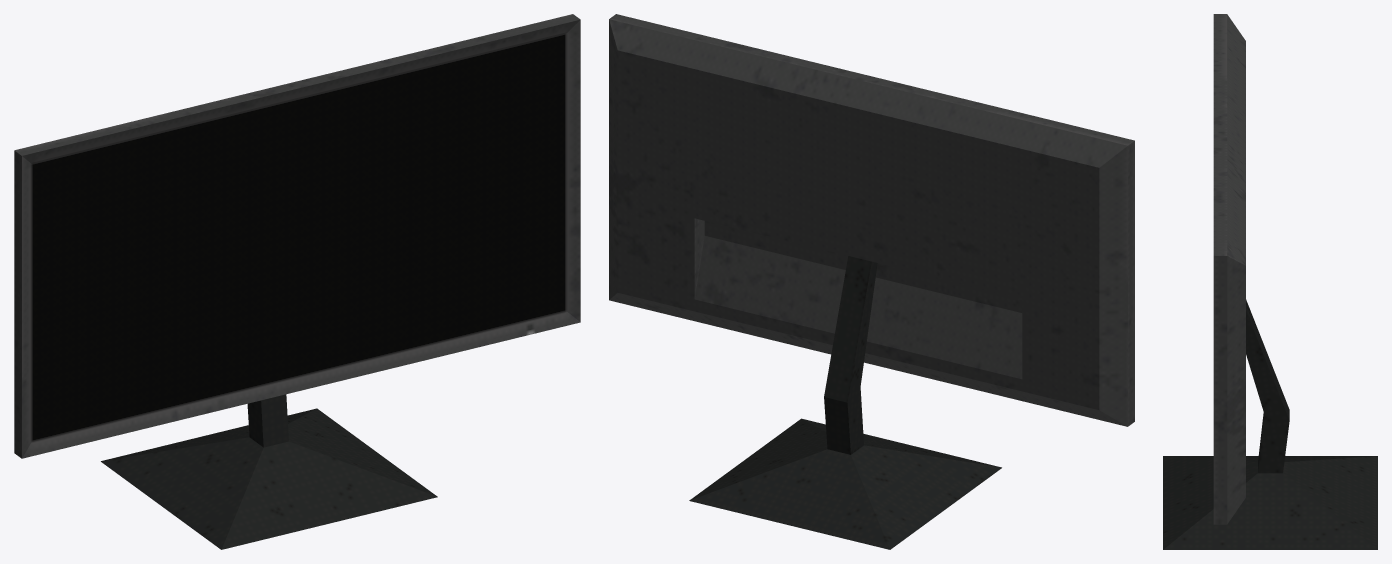
The model's file is PSX_Monitor.glb.
The picture shows the model from 3 angles, left to right: view 1: azimuth 30°, elevation 25°; view 2: azimuth 150°, elevation 25°; view 3: azimuth 270°, elevation 25°; orthographic projection. The views are drawn at different scales.
Visible parts, largest first — view 1: SM_PSX_Monitor; view 2: SM_PSX_Monitor; view 3: SM_PSX_Monitor.
Part boxes in pixels (x1,y1,x2,y2): SM_PSX_Monitor: (14,14,580,549); SM_PSX_Monitor: (609,14,1134,549); SM_PSX_Monitor: (1163,14,1377,549).
Size of the model in its own units: 0.7194 by 0.5104 by 0.2701.
Materials: 1 (1 with a texture image).
